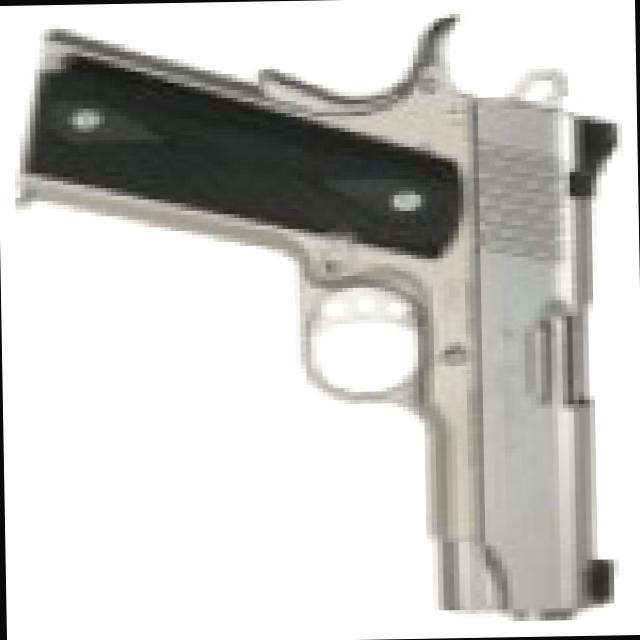handgun: (21, 11, 630, 621)
